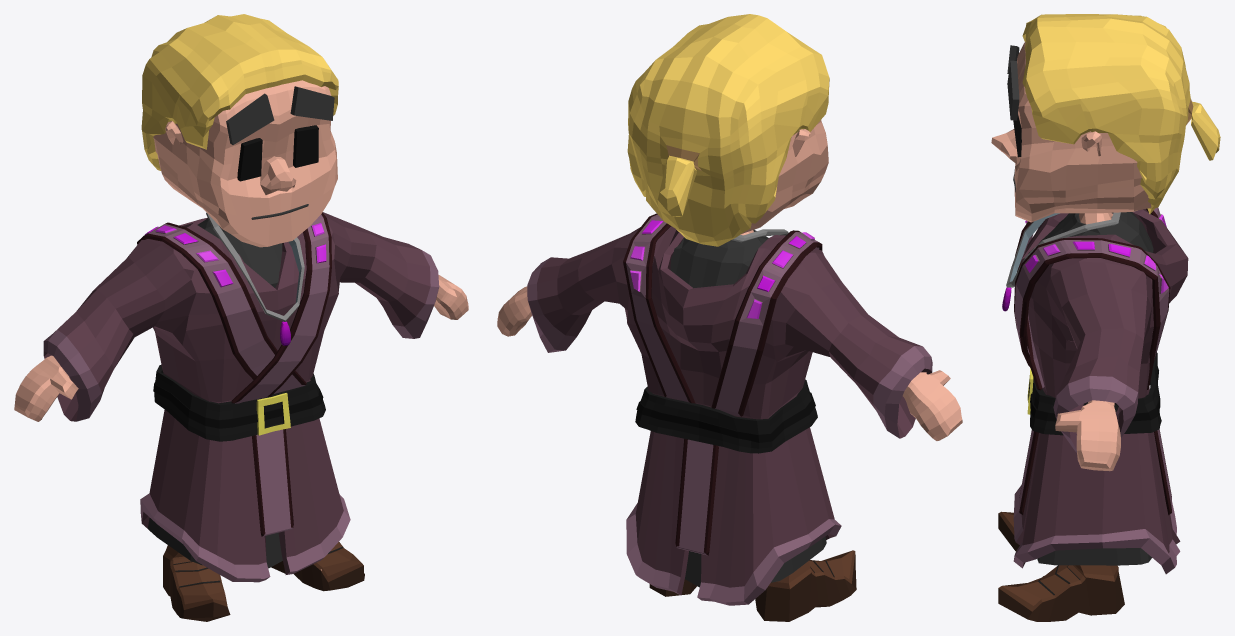
The model's file is MageSet_T1_MainChar.fbx.
3 views of the same model, side by side, from view 1: azimuth 30°, elevation 25°; view 2: azimuth 150°, elevation 25°; view 3: azimuth 270°, elevation 25° (orthographic). The views are drawn at different scales.
Parts seen in each view (by area): view 1: Cube.011; view 2: Cube.011; view 3: Cube.011.
Part boxes in pixels (x1=…): Cube.011: x1=14, y1=14, x2=468, y2=621; Cube.011: x1=497, y1=14, x2=962, y2=621; Cube.011: x1=991, y1=14, x2=1220, y2=621.
Size of the model in its own units: 330 by 397 by 145.
